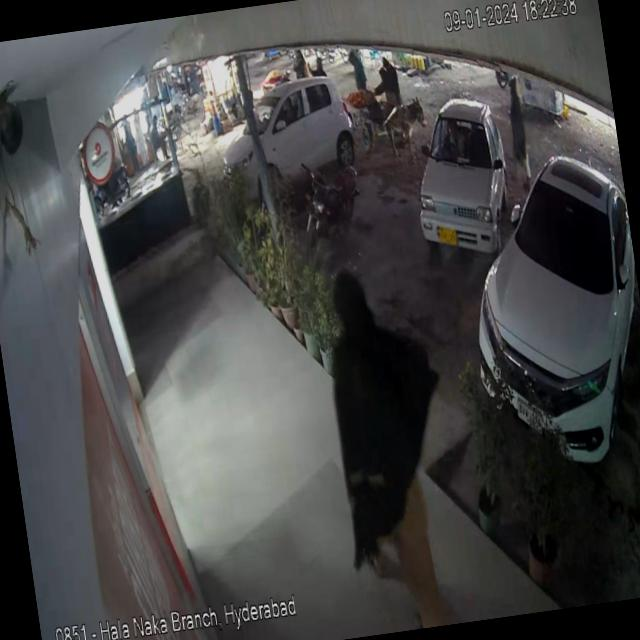Car: (444, 104, 640, 489), (404, 71, 524, 286), (192, 59, 363, 195)
Motorcycle: (294, 146, 369, 256)
